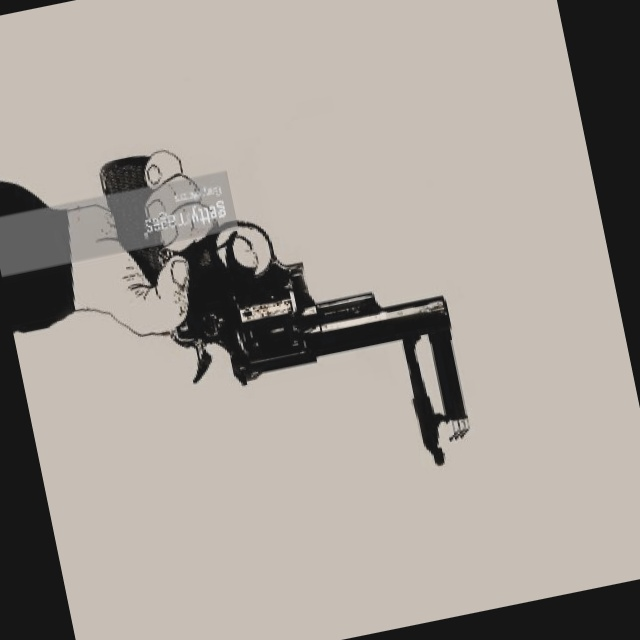gun: (91, 95, 496, 535)
